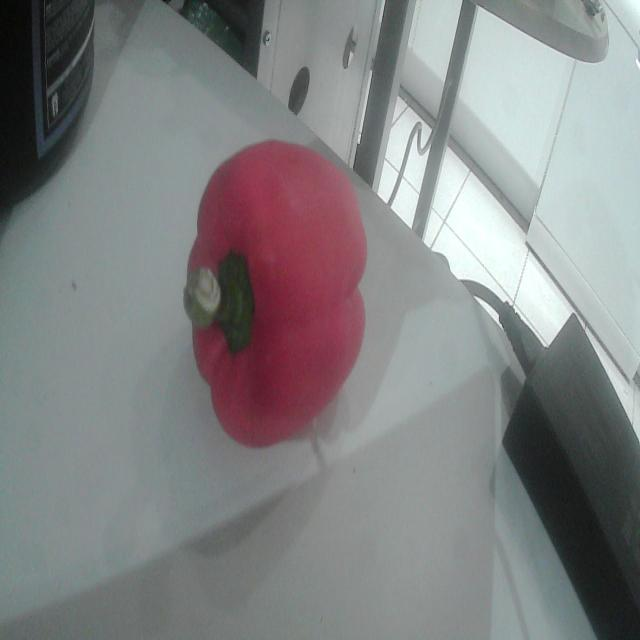Bell Pepper: (185, 140, 366, 446)
